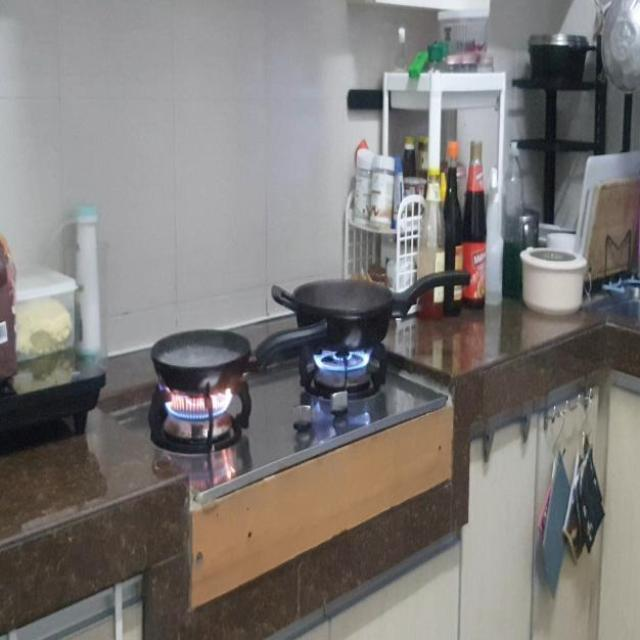smoke: (156, 380, 238, 422), (310, 346, 376, 374)
